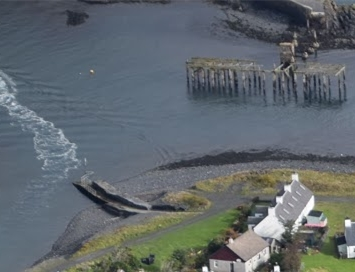white_in_green: (78, 59, 106, 84)
